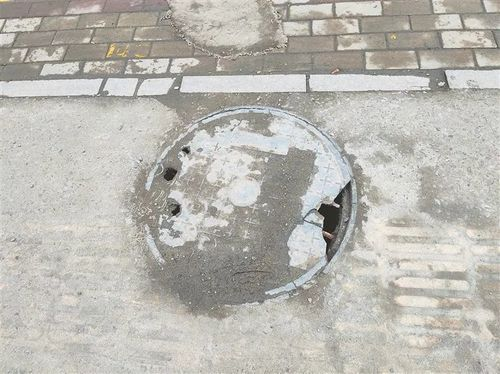broke: (124, 100, 370, 315)
